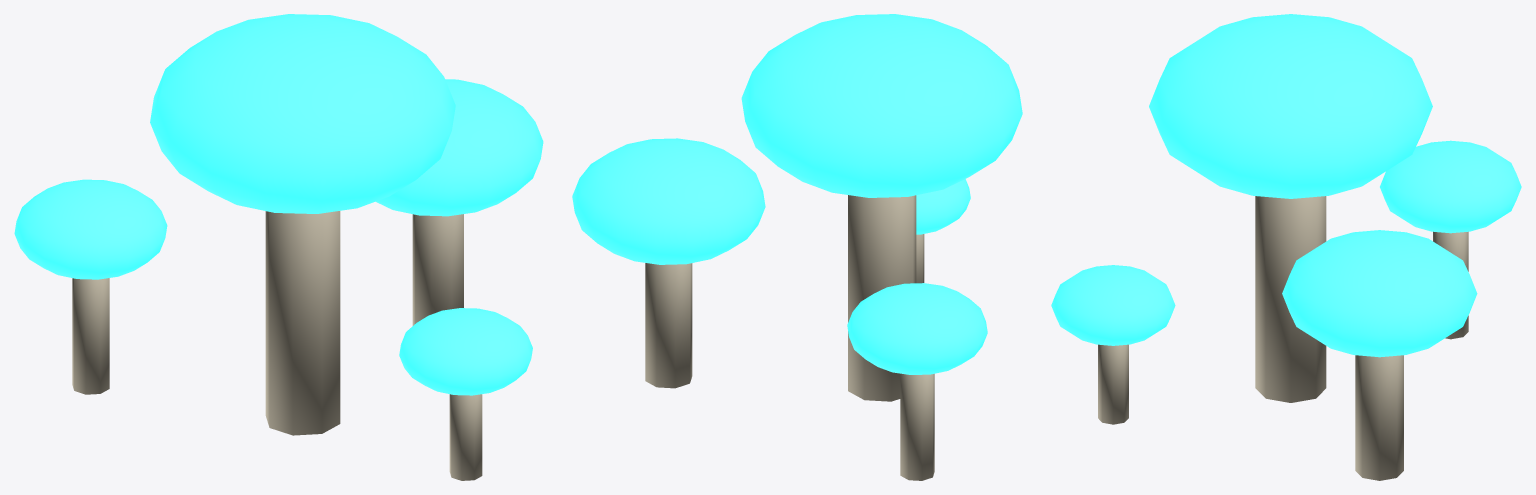
File: mushrooms.glb
3 renders of one model, left to right at view 1: azimuth 30°, elevation 25°; view 2: azimuth 150°, elevation 25°; view 3: azimuth 270°, elevation 25°, orthographic. The views are drawn at different scales.
Visible parts, largest first — view 1: Body; view 2: Body; view 3: Body.
Boxes of the visible parts, x1=… form: Body: x1=14, y1=14, x2=543, y2=480; Body: x1=572, y1=14, x2=1022, y2=480; Body: x1=1051, y1=14, x2=1521, y2=480.
Bounding box in the file's own units: 0.56 × 0.438 × 0.53.
